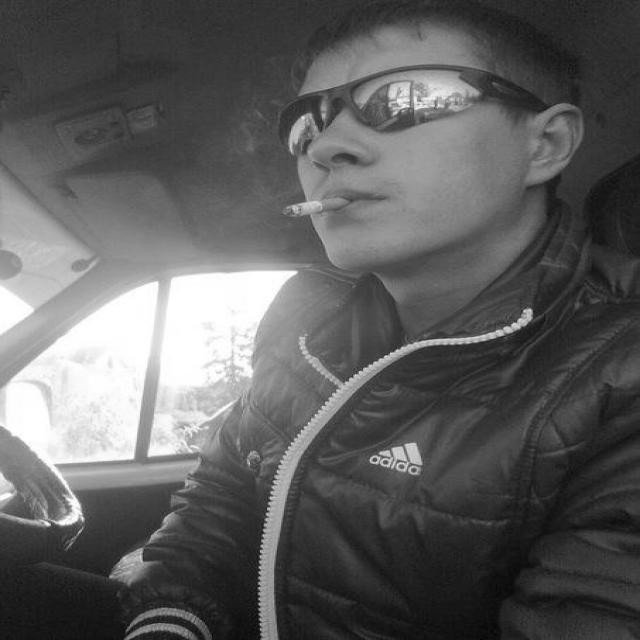Cigarette: (267, 192, 369, 226)
